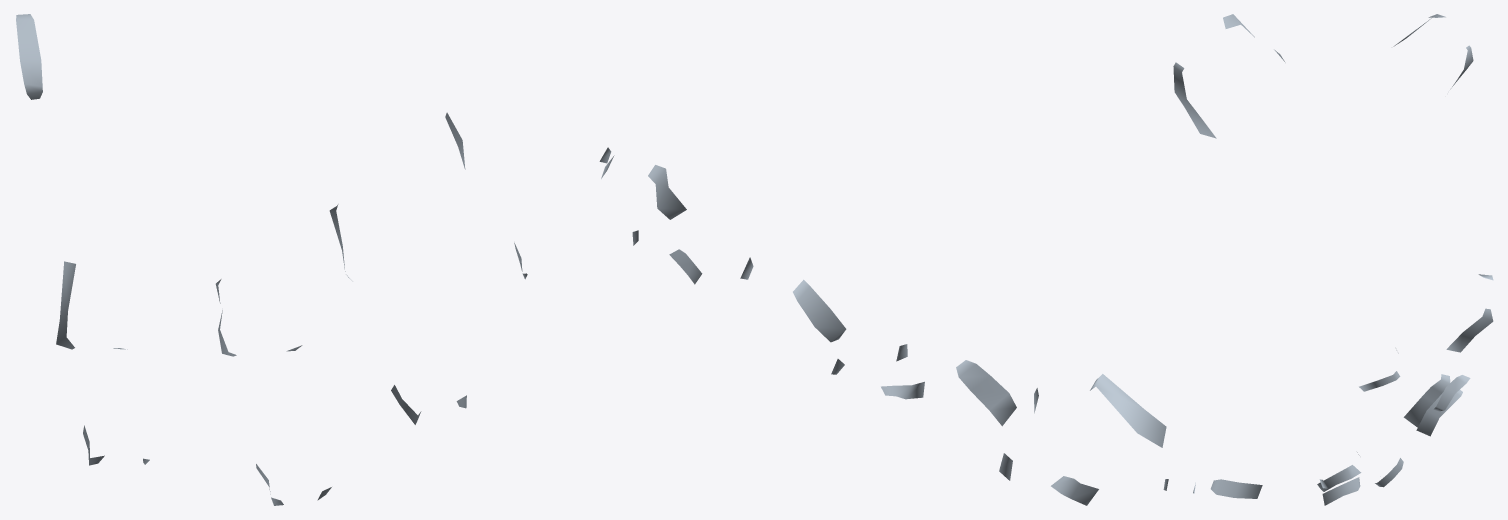
The model's file is collateral-interphalangeal-ligaments-of-hand-r.glb.
3 views of the same model, side by side, from view 1: azimuth 30°, elevation 25°; view 2: azimuth 150°, elevation 25°; view 3: azimuth 270°, elevation 25° (orthographic). The views are drawn at different scales.
Parts seen in each view (by area): view 1: Collateral interphalangeal ligaments of hand.r; view 2: Collateral interphalangeal ligaments of hand.r; view 3: Collateral interphalangeal ligaments of hand.r.
Part boxes in pixels (x1,y1,x2,y2): Collateral interphalangeal ligaments of hand.r: (16, 14, 527, 505); Collateral interphalangeal ligaments of hand.r: (599, 14, 1285, 505); Collateral interphalangeal ligaments of hand.r: (1317, 14, 1493, 505).
Size of the model in its own units: 0.1045 by 0.0913 by 0.038.
